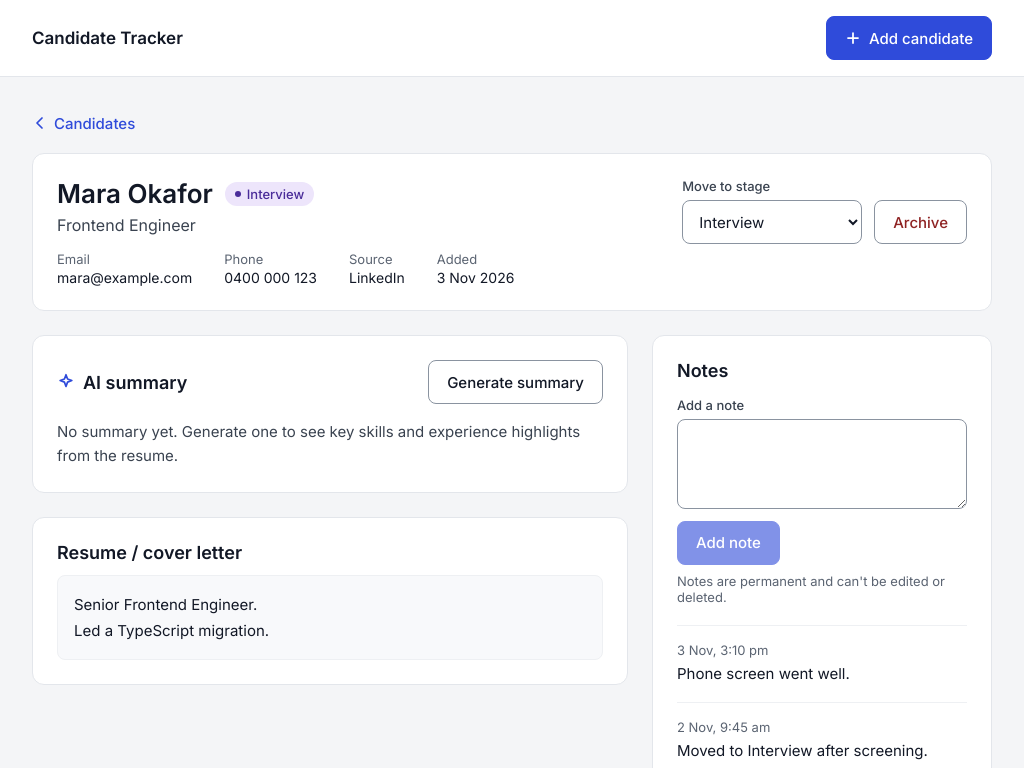
it: candidate detail: notes › adds a note to the top of the list and clears the box
Type "Offer call booked." into the text box labelled "Add a note" at [822, 464], box [677,419,967,508]
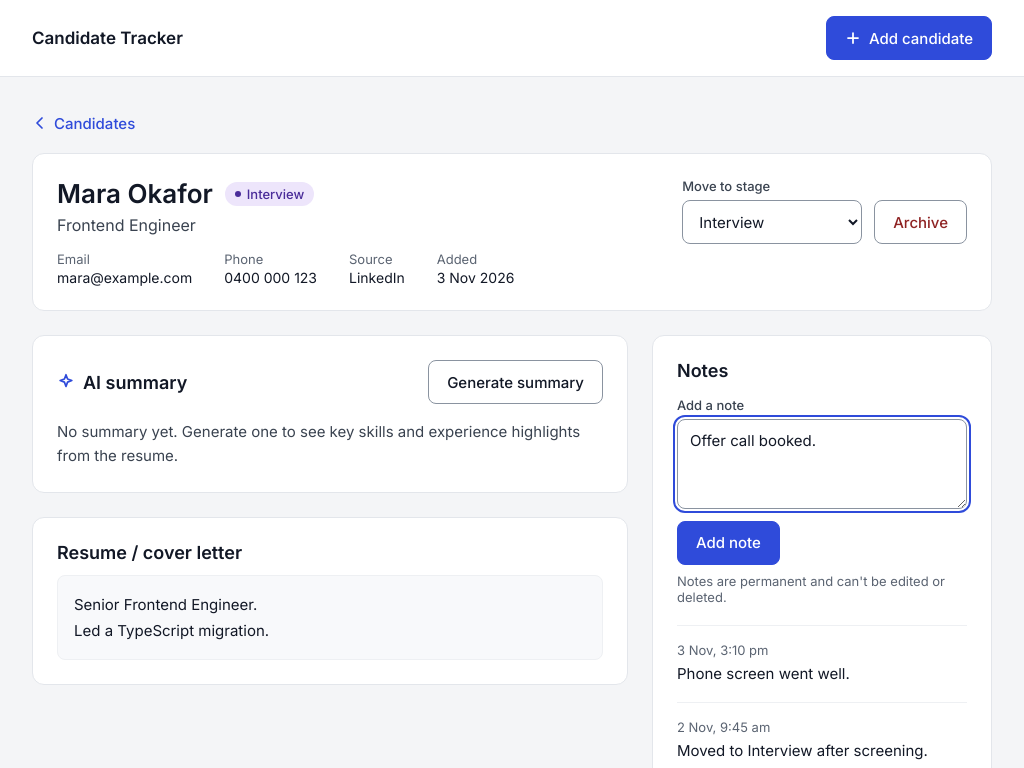
Click the button "Add note" at [728, 542], box [677,520,780,564]
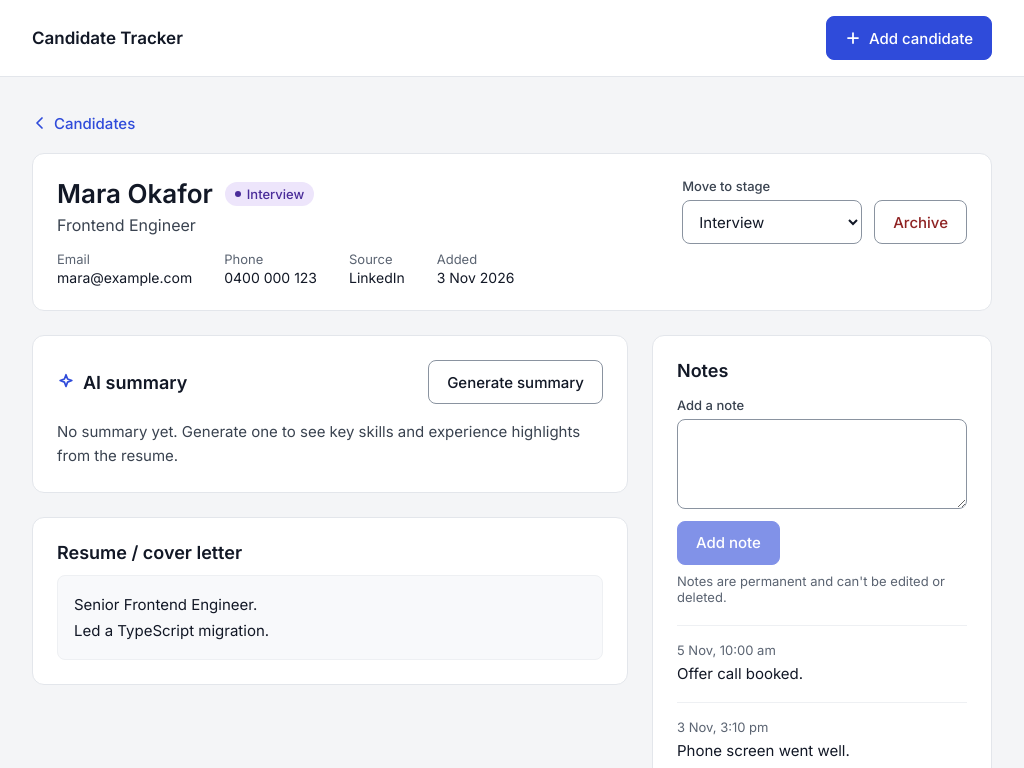
expect the list item "5 Nov, 10:00 am Offer call booked." is shown: met, box [677,624,967,686]
expect the text box labelled "Add a note" is empty: met, box [677,419,967,508]
